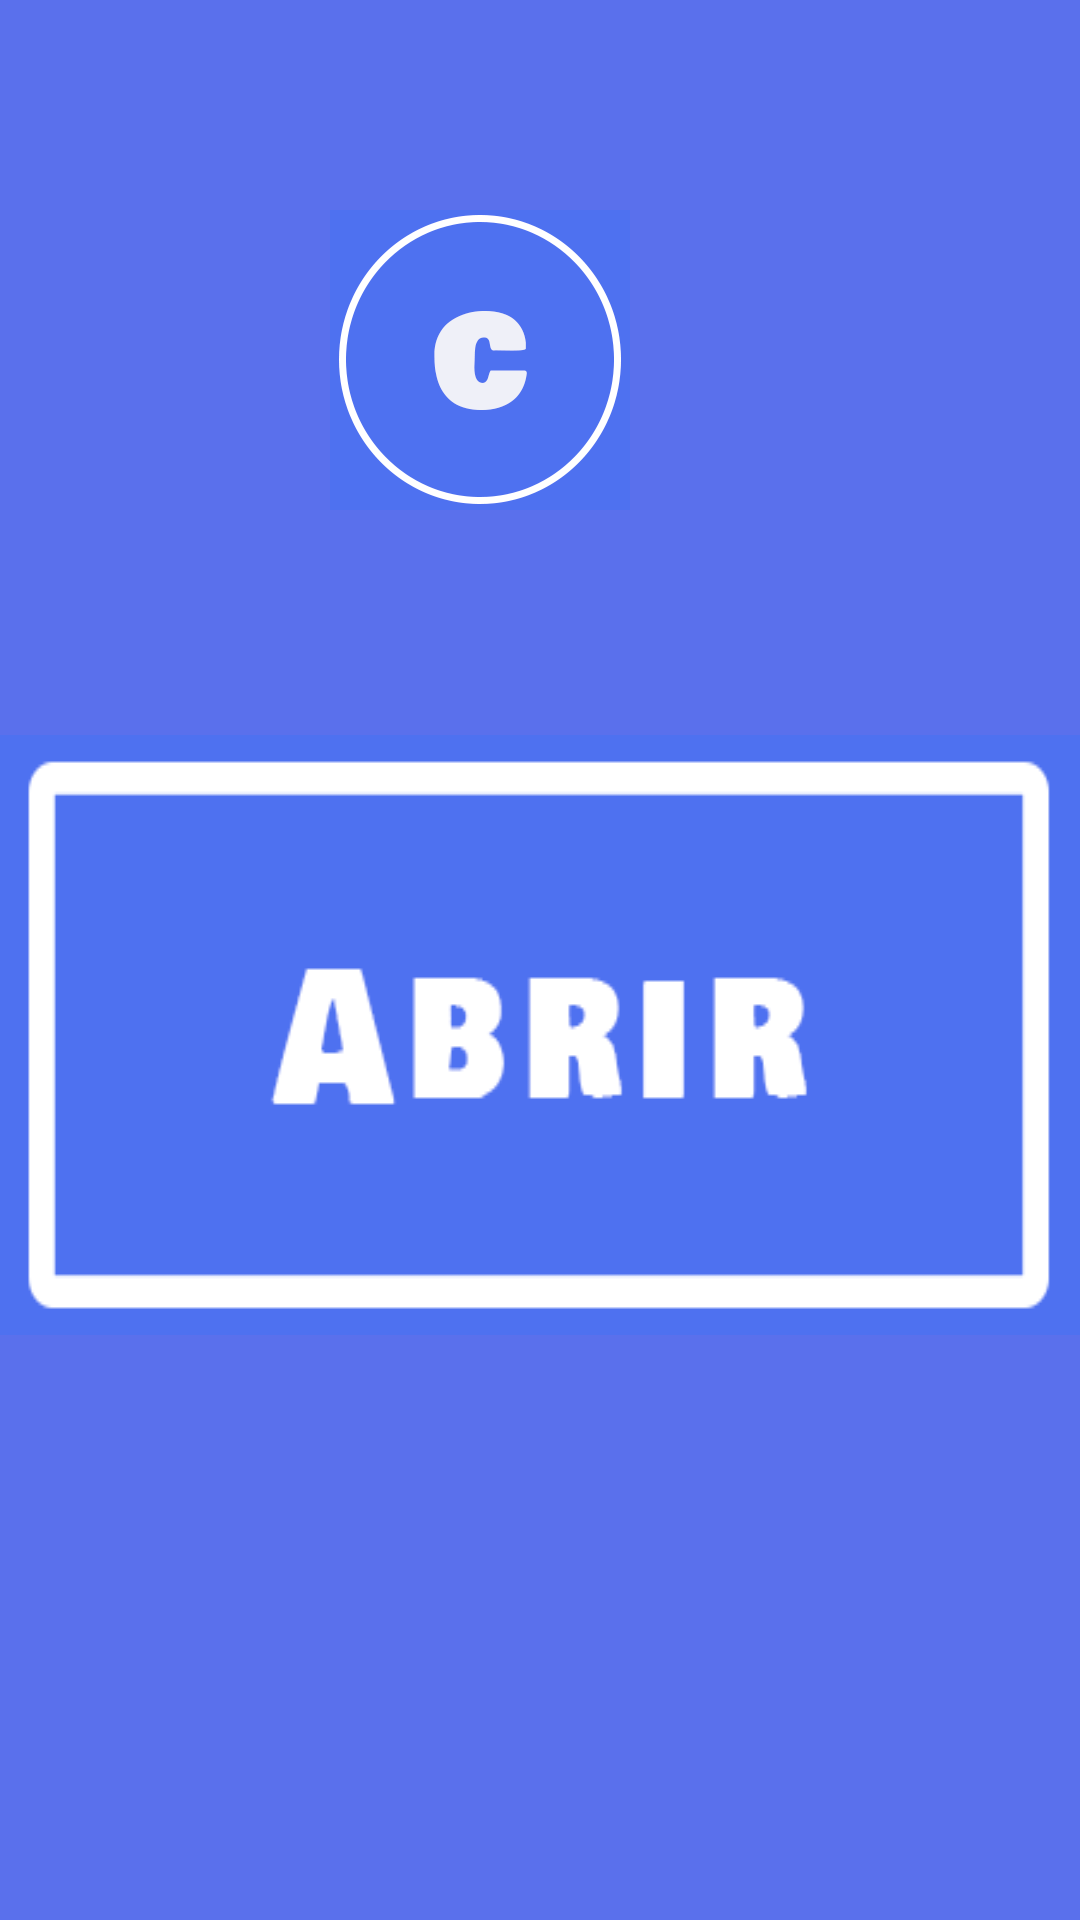

Screen size 1080px×1920px. Icon name, then its box in pixels as (x1, y1, x2, y2):
estados cerrado: (330, 210, 630, 510)
